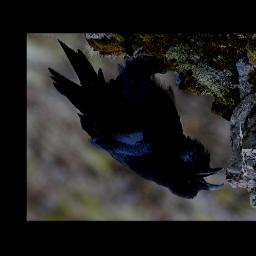Crow: (48, 37, 225, 200)
